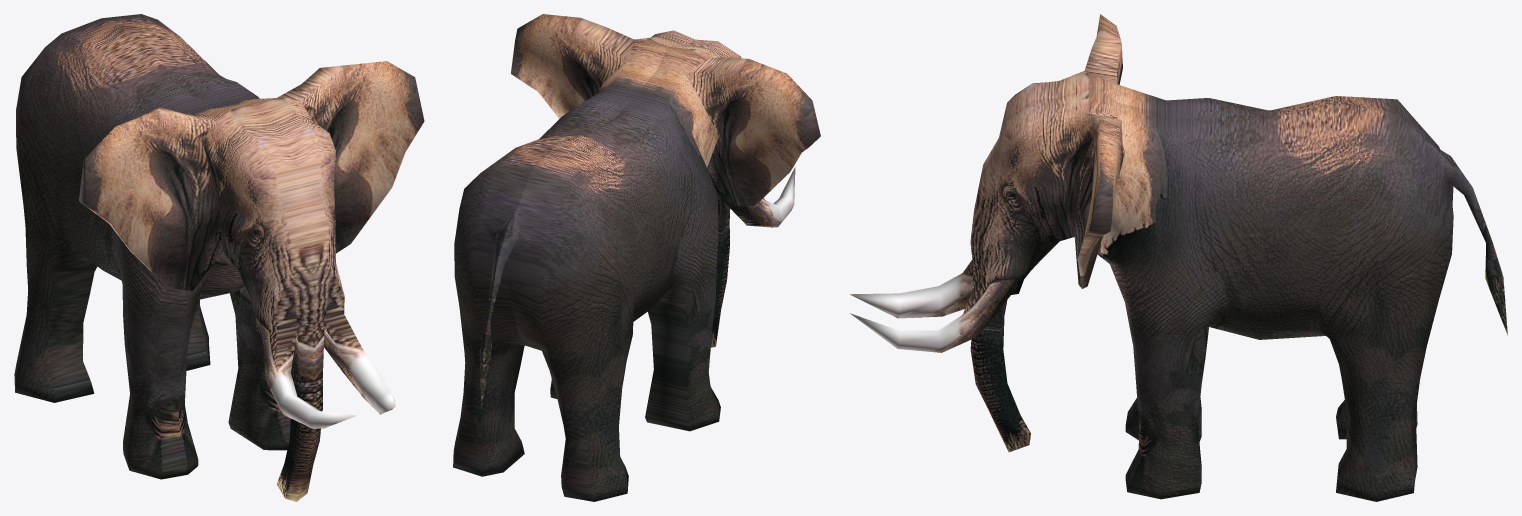
File: elephant.dae
3 views of the same model, side by side, from view 1: azimuth 30°, elevation 25°; view 2: azimuth 150°, elevation 25°; view 3: azimuth 270°, elevation 25° (orthographic). The views are drawn at different scales.
Parts seen in each view (by area): view 1: Elephant (×2); view 2: Elephant (×2); view 3: Elephant (×2).
Part boxes in pixels (box(x1,y1,x2,y2)): Elephant (×2): box(14, 14, 424, 501); Elephant (×2): box(453, 14, 820, 501); Elephant (×2): box(850, 14, 1507, 501).
Size of the model in its own units: 85.87 by 145 by 93.14.
Materials: 2 (1 with a texture image).
